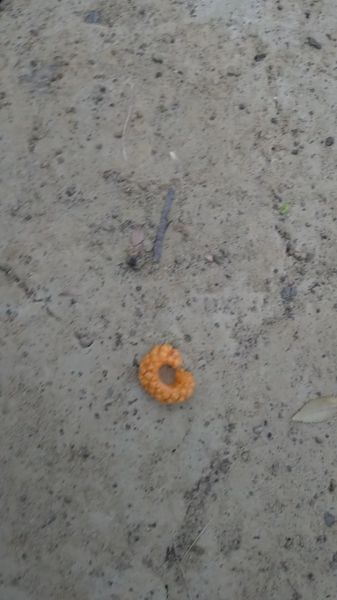eggs: (134, 342, 199, 410)
